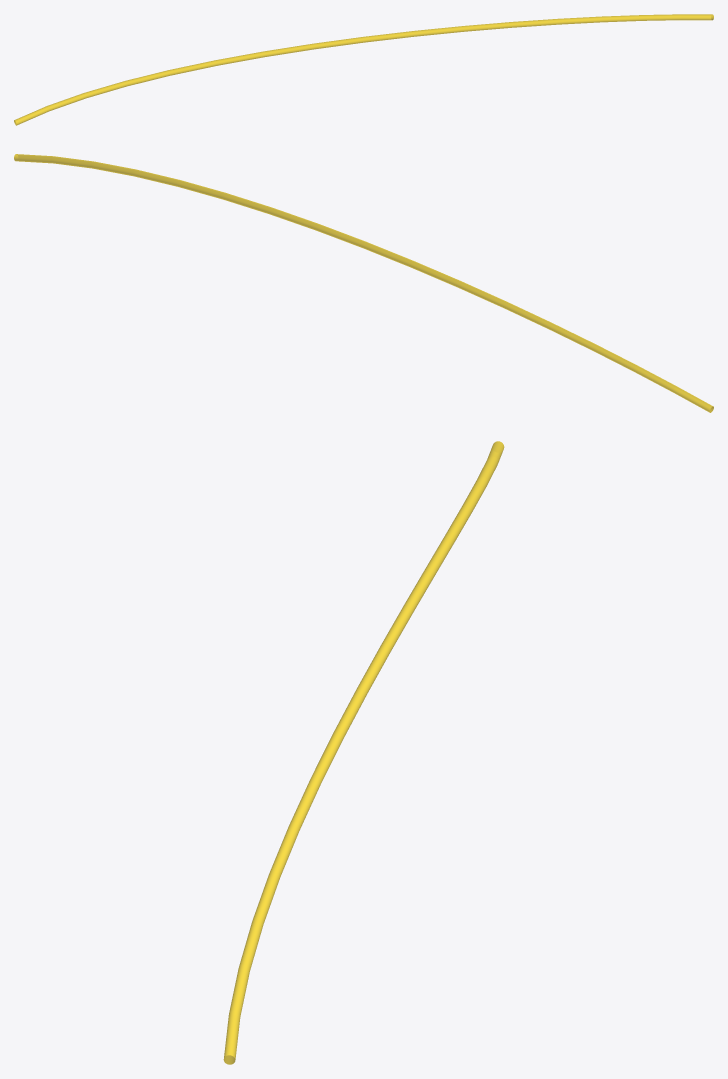
Rendered from Event_27938768_track_70.fbx.
3 renders of one model, top to bottom at view 1: azimuth 30°, elevation 25°; view 2: azimuth 150°, elevation 25°; view 3: azimuth 270°, elevation 25°, orthographic. The views are drawn at different scales.
Parts seen in each view (by area): view 1: Model; view 2: Model; view 3: Model.
Boxes of the visible parts, box(x1,y1,x2,y2) form: Model: box(14, 14, 713, 125); Model: box(14, 154, 713, 412); Model: box(223, 441, 504, 1064).
Bounding box in the file's own units: 4.94 × 0.2743 × 0.9507.
